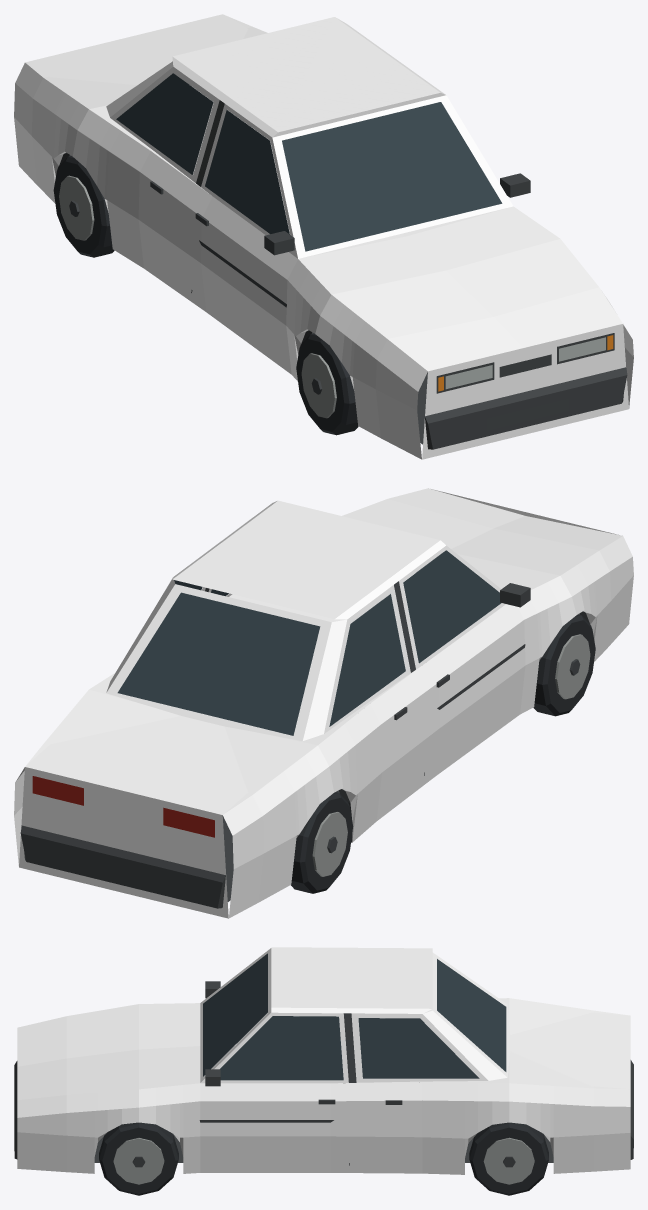
Rendered from varenna_falco_s.glb.
3 views of the same model, one above another, from view 1: azimuth 30°, elevation 25°; view 2: azimuth 150°, elevation 25°; view 3: azimuth 270°, elevation 25° (orthographic). The views are drawn at different scales.
Visible parts, largest first — view 1: varenna_falco_s; view 2: varenna_falco_s; view 3: varenna_falco_s.
Part boxes in pixels (x1=…): varenna_falco_s: x1=14, y1=14, x2=633, y2=459; varenna_falco_s: x1=14, y1=488, x2=633, y2=918; varenna_falco_s: x1=14, y1=947, x2=633, y2=1195.
Bounding box in the file's own units: 1.79 × 1.48 × 4.82.
Materials: 8 (1 with a texture image).
